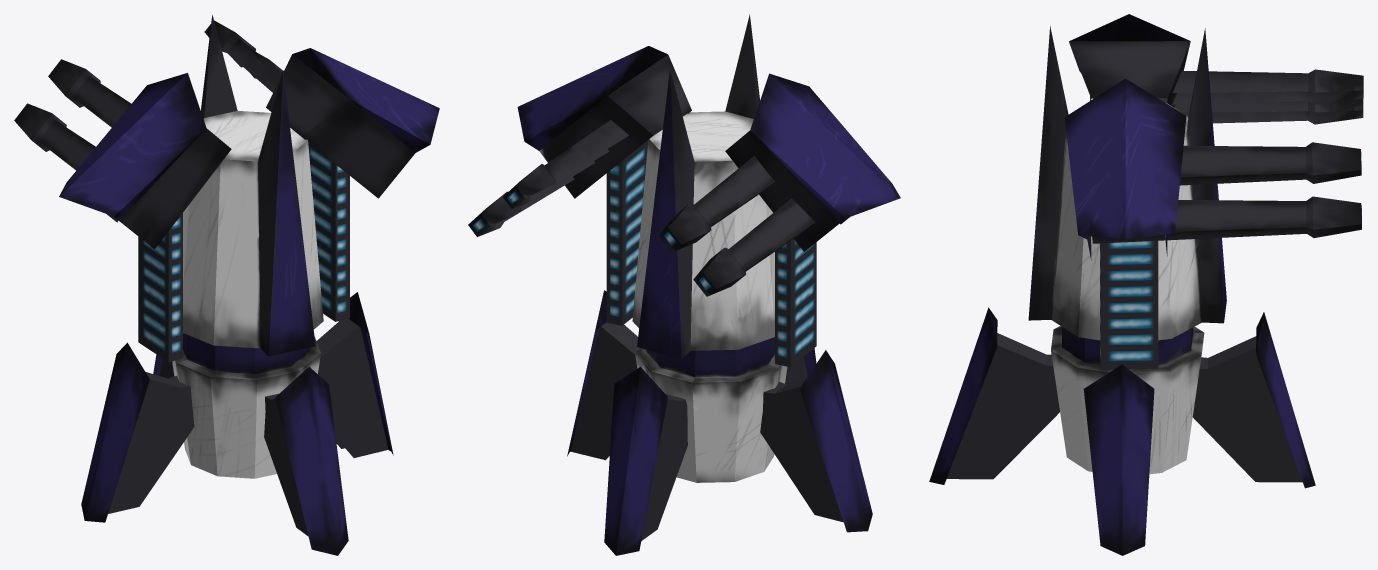
File: TDTowerNormal4.fbx
The picture shows the model from 3 angles, left to right: view 1: azimuth 30°, elevation 25°; view 2: azimuth 150°, elevation 25°; view 3: azimuth 270°, elevation 25°; orthographic projection. The views are drawn at different scales.
Visible parts, largest first — view 1: polySurface442, polySurface465; view 2: polySurface442, polySurface465; view 3: polySurface442, polySurface465.
Part boxes in pixels (bbox=[...]): polySurface442: bbox=[14, 15, 439, 362]; polySurface465: bbox=[81, 292, 393, 555]; polySurface442: bbox=[468, 14, 900, 367]; polySurface465: bbox=[567, 290, 872, 555]; polySurface442: bbox=[1028, 14, 1363, 369]; polySurface465: bbox=[929, 307, 1315, 555].
Bounding box in the file's own units: 16.66 × 18.55 × 15.94.
